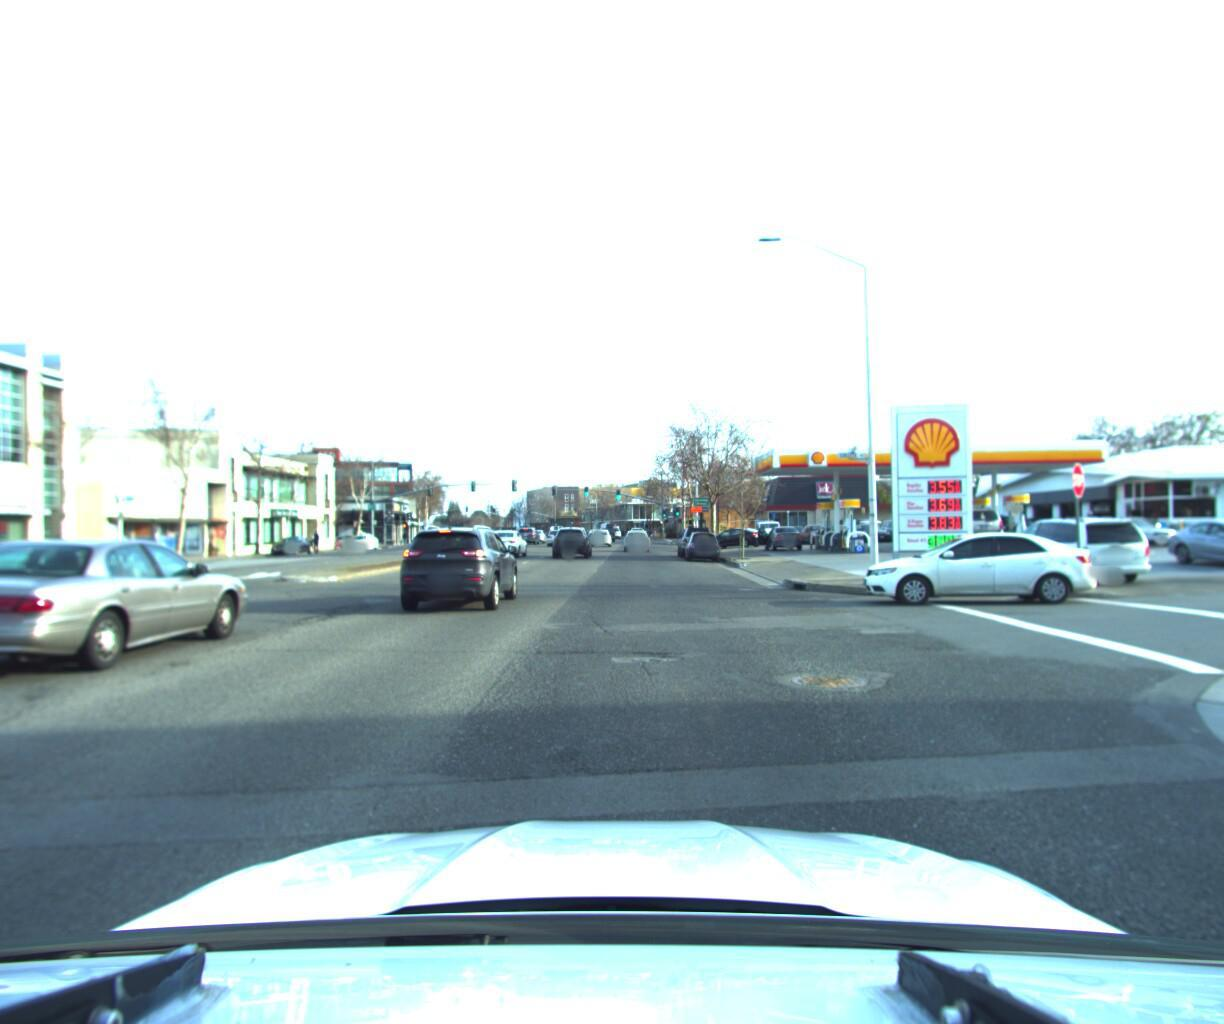car: (0, 534, 266, 703), (854, 526, 1101, 602), (991, 505, 1164, 580), (388, 524, 524, 617), (0, 540, 48, 584), (549, 521, 591, 558), (484, 527, 529, 558), (676, 523, 715, 557), (683, 527, 720, 560), (762, 523, 803, 549), (270, 534, 318, 556), (755, 517, 783, 542), (344, 532, 381, 550), (622, 526, 650, 549), (589, 522, 613, 545), (541, 529, 567, 545)
